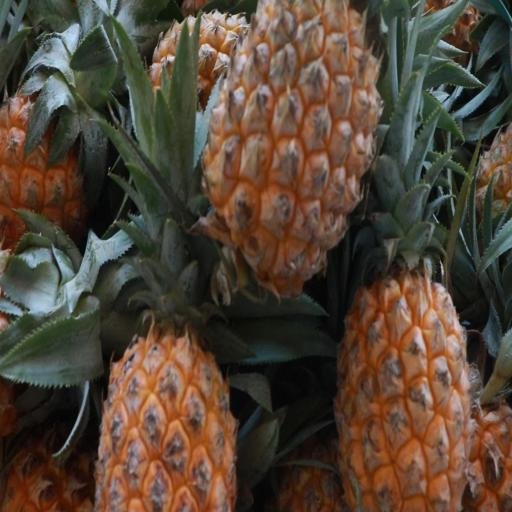Pineapple - v8 v1: (196, 0, 390, 310), (328, 151, 475, 512), (94, 239, 243, 512), (0, 40, 117, 266)
